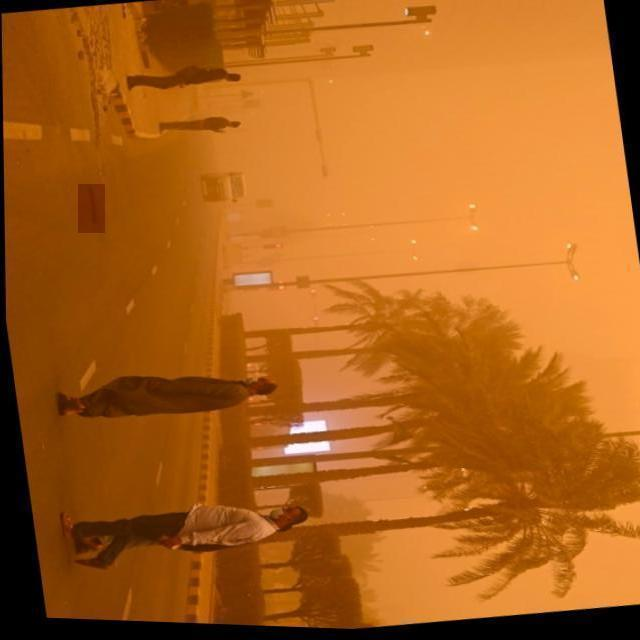Manhole: (78, 184, 105, 233)
